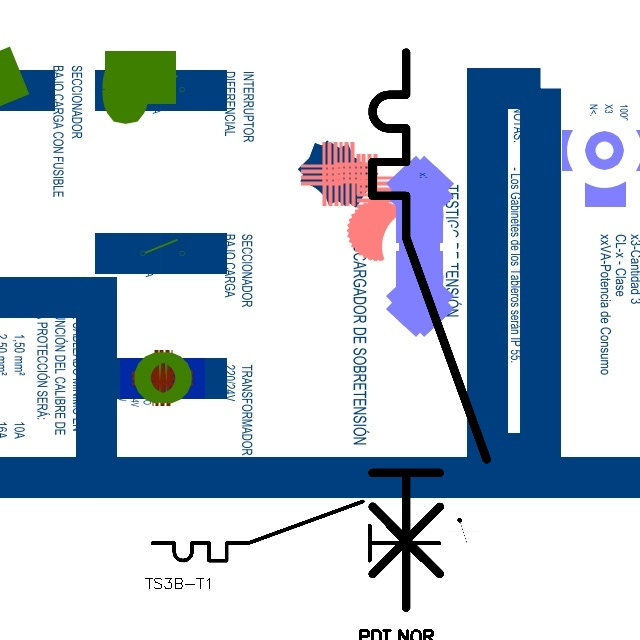interruptor_termomagnetico: (358, 38, 501, 622), (145, 494, 447, 568)
